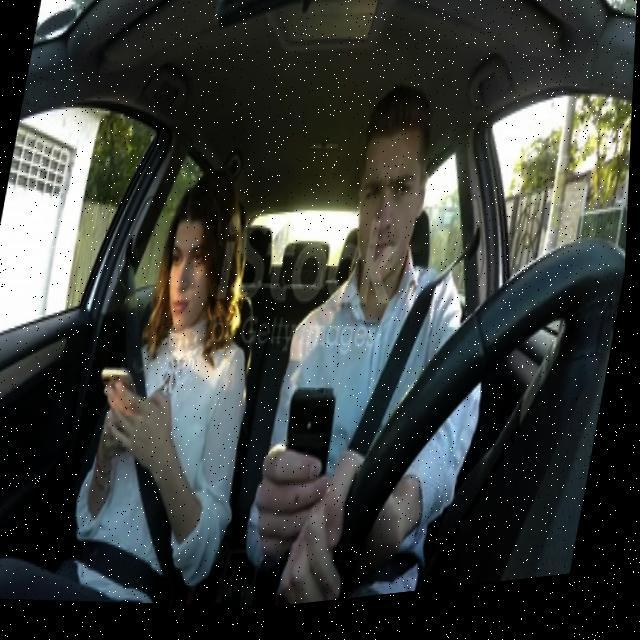PhoneCall: (276, 390, 346, 513), (95, 364, 147, 418)
